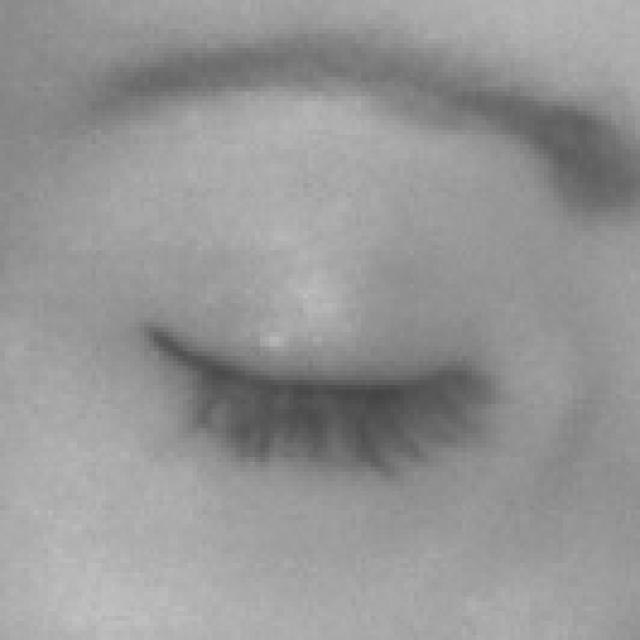close: (9, 43, 640, 589)
